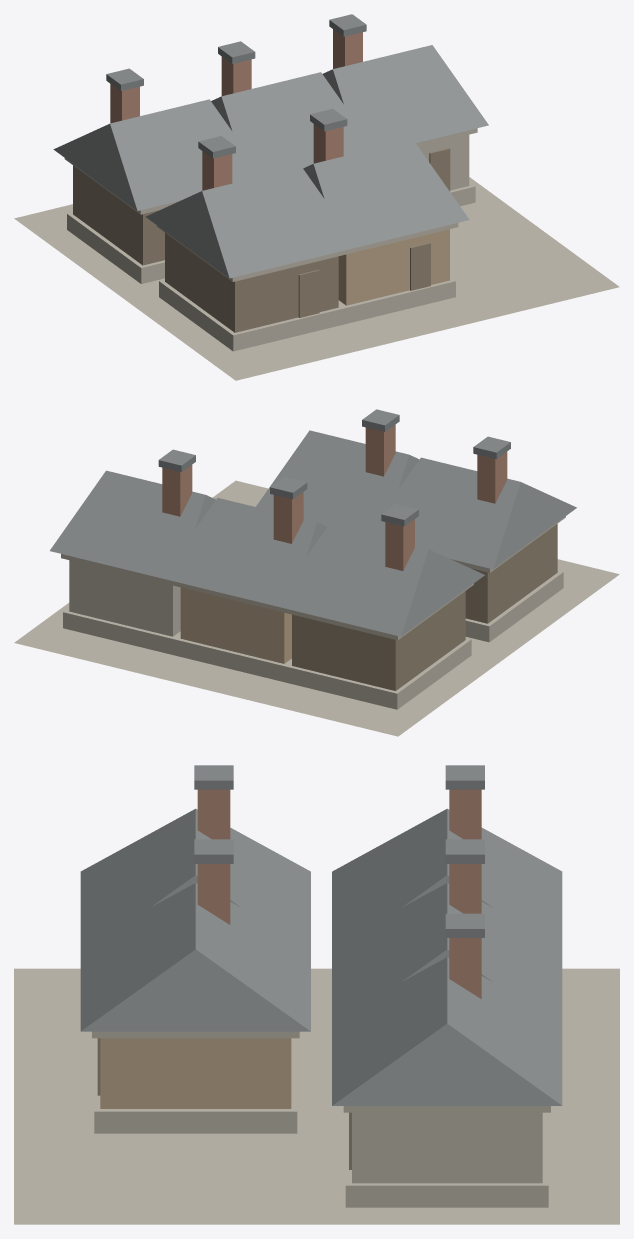
3 views of the same model, one above another, from view 1: azimuth 30°, elevation 25°; view 2: azimuth 150°, elevation 25°; view 3: azimuth 270°, elevation 25° (orthographic). The views are drawn at different scales.
Visible parts, largest first — view 1: Near; view 2: Near; view 3: Near.
Part boxes in pixels (x1=…): Near: x1=14, y1=14, x2=619, y2=380; Near: x1=14, y1=409, x2=619, y2=736; Near: x1=14, y1=765, x2=619, y2=1224.
Size of the model in its own units: 2 by 0.8456 by 2.
